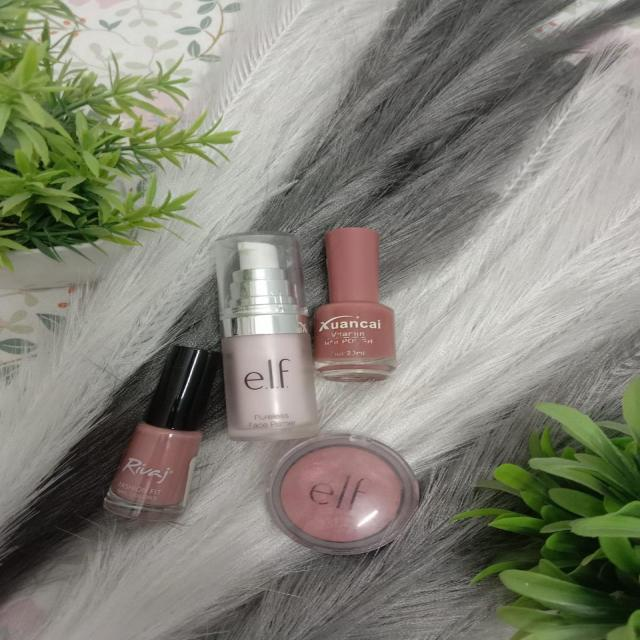blush: (264, 430, 422, 559)
nail polish: (96, 342, 226, 522), (309, 223, 406, 383)
primer: (199, 228, 317, 441)
